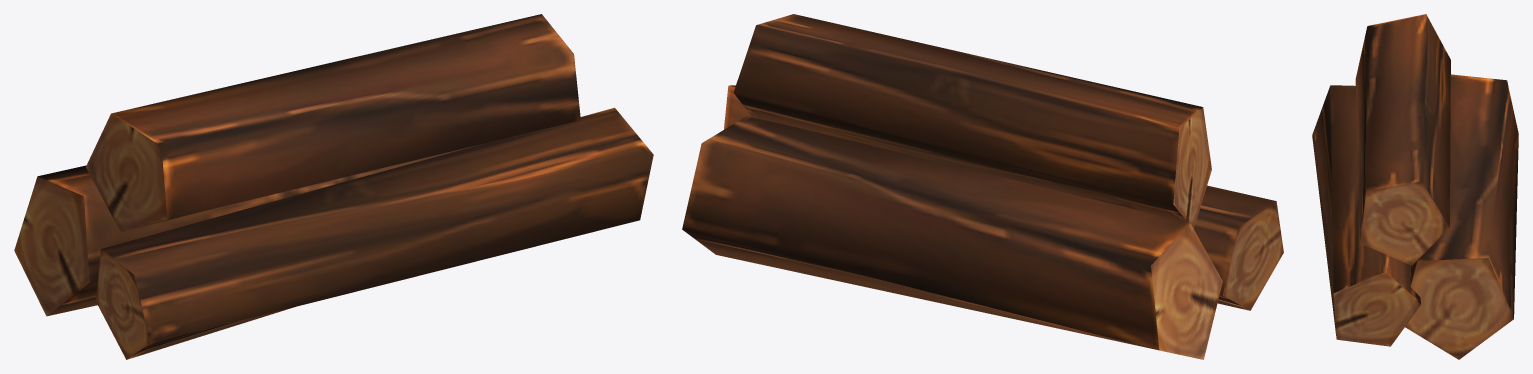
The model's file is UD_worker_wood.FBX.
3 renders of one model, left to right at view 1: azimuth 30°, elevation 25°; view 2: azimuth 150°, elevation 25°; view 3: azimuth 270°, elevation 25°, orthographic. The views are drawn at different scales.
Visible parts, largest first — view 1: UD_wood; view 2: UD_wood; view 3: UD_wood.
Part boxes in pixels (box(x1,y1,x2,y2)): UD_wood: box(14, 14, 653, 359); UD_wood: box(682, 14, 1283, 359); UD_wood: box(1312, 14, 1518, 359).
Bounding box in the file's own units: 33.53 × 13.33 × 14.33.
